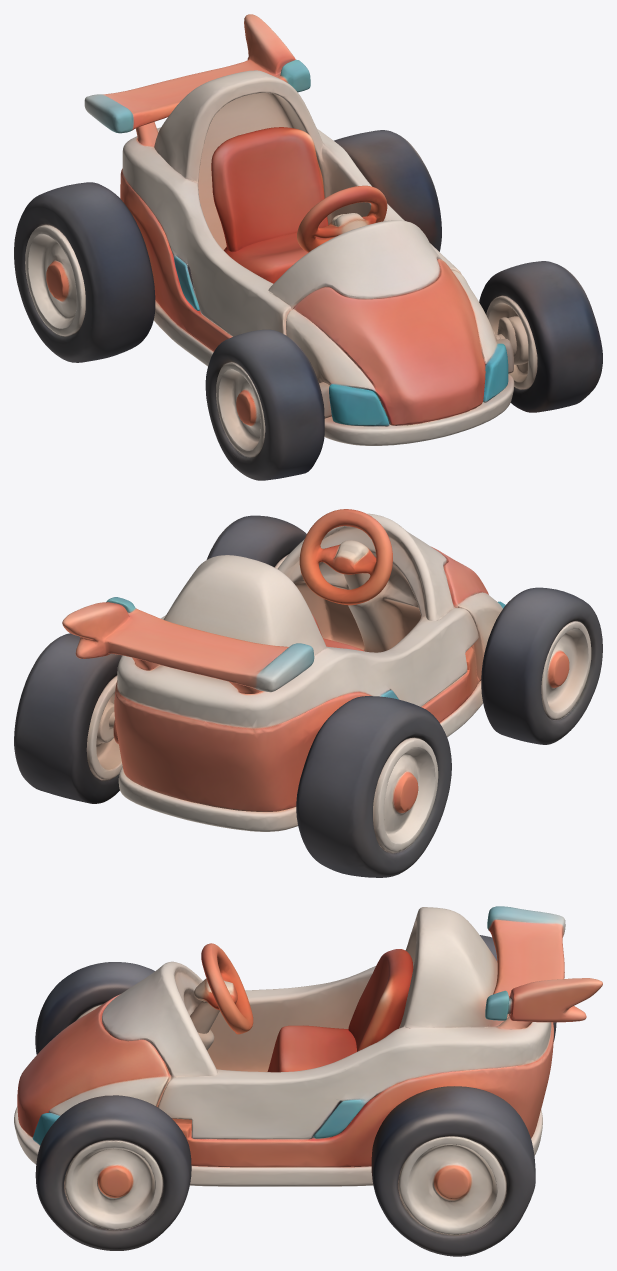
File: comet-cartoon-source.glb
3 renders of one model, top to bottom at view 1: azimuth 30°, elevation 25°; view 2: azimuth 150°, elevation 25°; view 3: azimuth 270°, elevation 25°, orthographic. The views are drawn at different scales.
Visible parts, largest first — view 1: model; view 2: model; view 3: model.
Part boxes in pixels (x1=…): model: x1=14, y1=14, x2=602, y2=480; model: x1=14, y1=509, x2=602, y2=877; model: x1=14, y1=906, x2=602, y2=1256.
Size of the model in its own units: 1.35 by 0.9136 by 1.9.
Materials: 1 (1 with a texture image).
